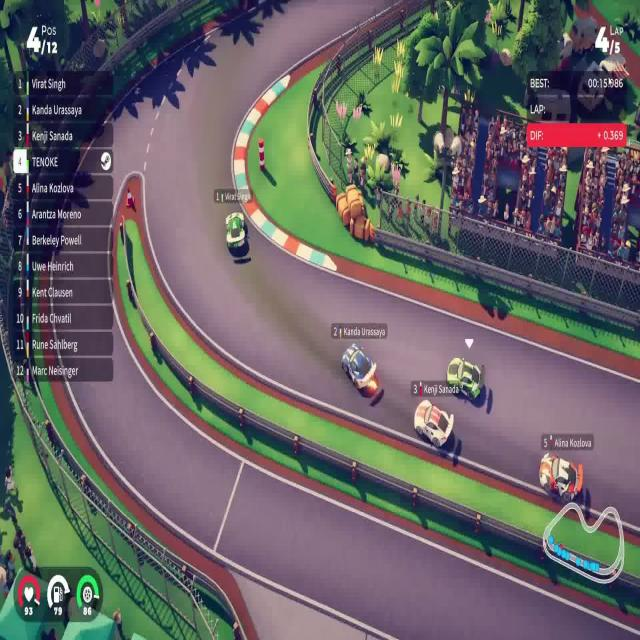car: (538, 451, 583, 502), (340, 342, 379, 398), (413, 398, 454, 449), (446, 355, 485, 402), (224, 210, 248, 256)
